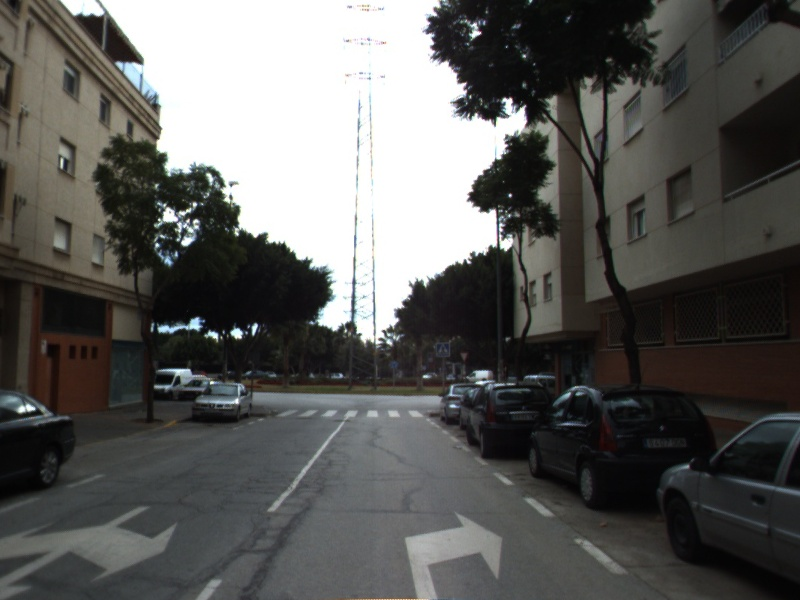RIGHT: (401, 506, 505, 600)
